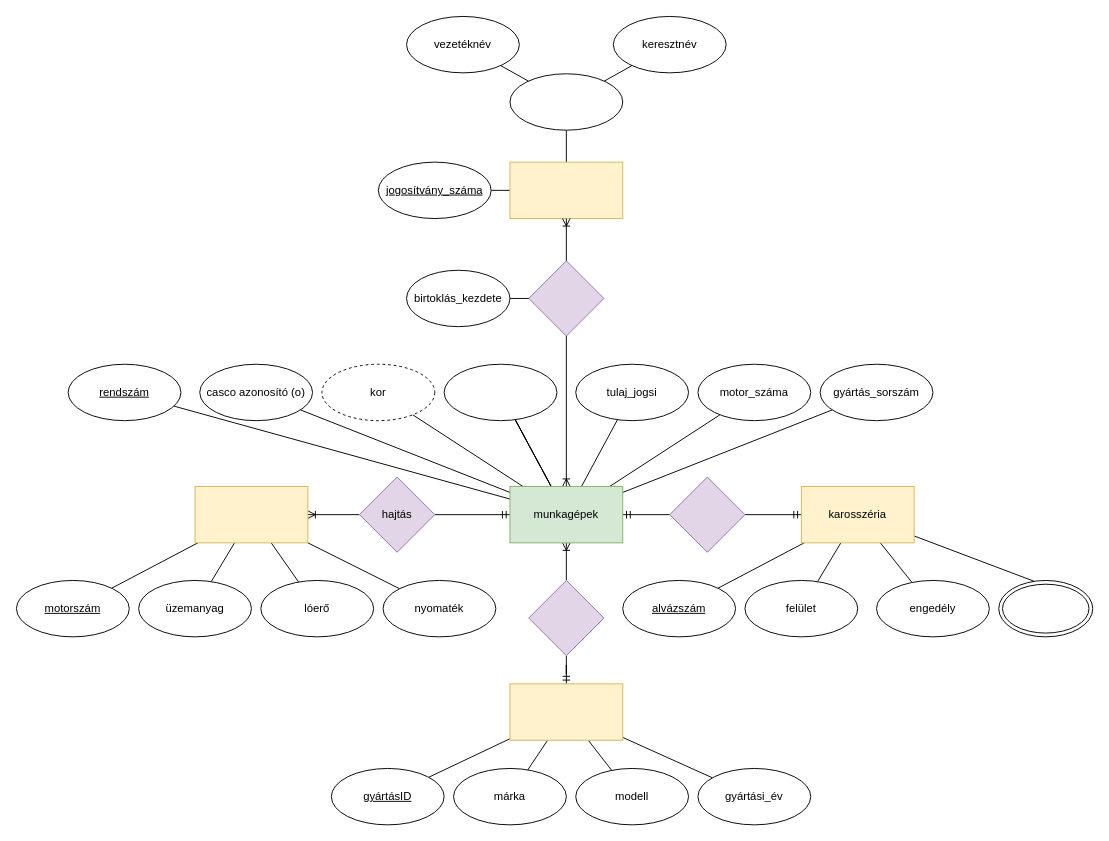
Image size: 1109x841. Some labels were removed from this diagram. The shapes that lost their labels are listed below. From the top down, each one's box as (x1, y1, x2, y2) in pixels, then its label:
(509, 73, 623, 130): név
(509, 161, 623, 219): tulajdonos
(528, 260, 604, 336): birtoklás
(443, 363, 557, 421): alváz_száma
(194, 486, 308, 543): motor
(669, 476, 745, 552): tartalmazás
(528, 580, 604, 656): legyártás
(998, 580, 1093, 637): szín
(509, 683, 623, 740): gyártás
